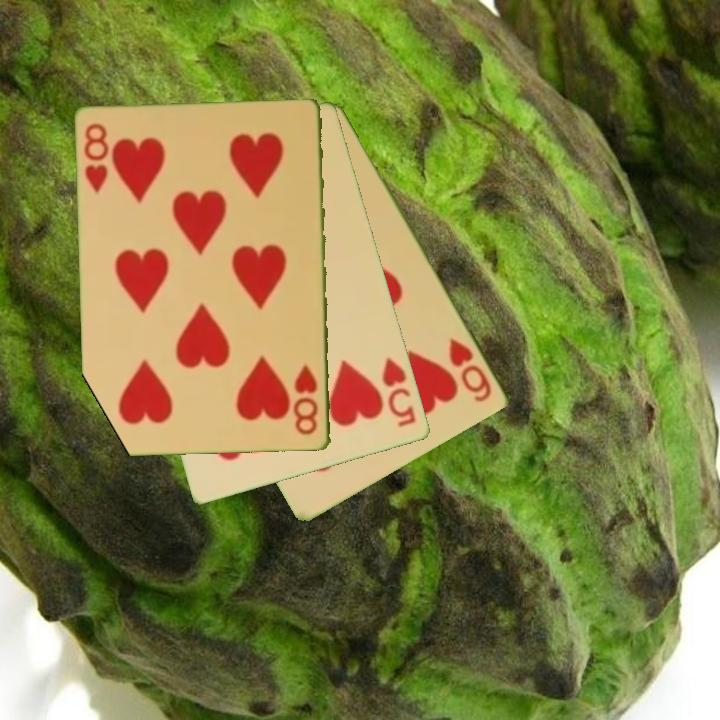5h: (379, 354, 419, 430)
6h: (445, 334, 495, 406)
8h: (81, 121, 112, 196), (292, 361, 322, 438)
